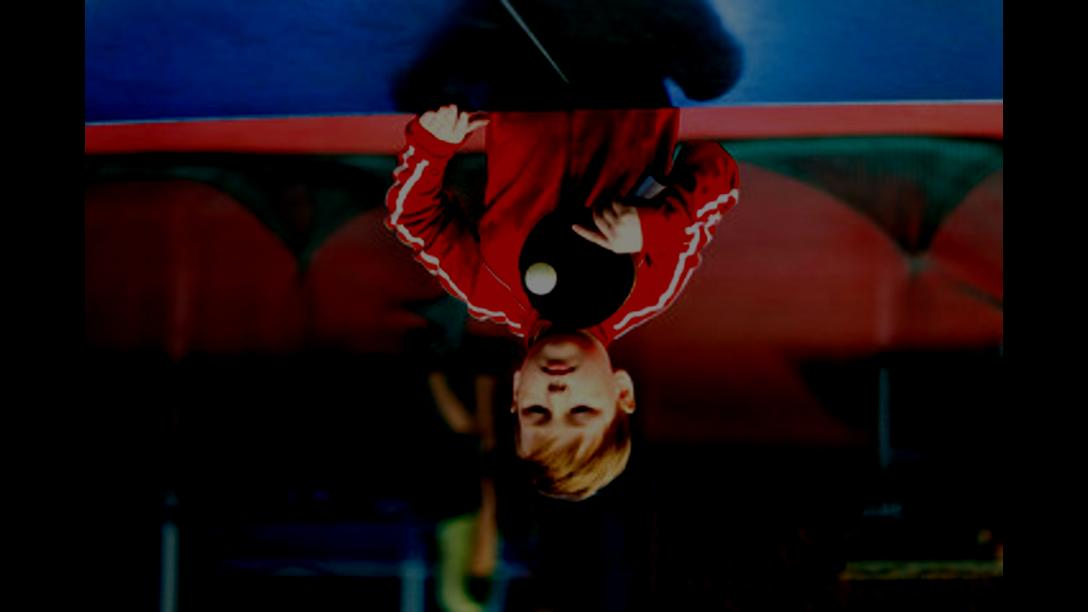Table-Tennis-Ball: (524, 263, 558, 295)
